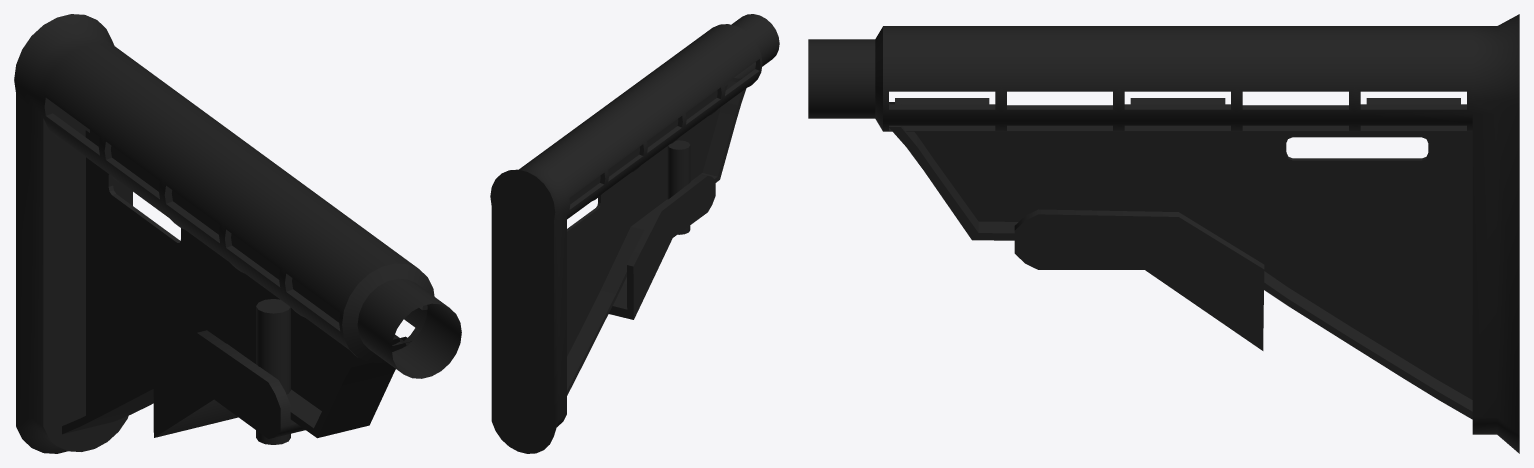
The model's file is butt_1.fbx.
3 renders of one model, left to right at view 1: azimuth 30°, elevation 25°; view 2: azimuth 150°, elevation 25°; view 3: azimuth 270°, elevation 25°, orthographic. The views are drawn at different scales.
Parts seen in each view (by area): view 1: butt_1; view 2: butt_1; view 3: butt_1.
Boxes of the visible parts, x1,y1,x2,y2 form: butt_1: (14, 14, 461, 453); butt_1: (490, 14, 779, 453); butt_1: (808, 14, 1519, 453).
Bounding box in the file's own units: 177 × 735 × 1106.
